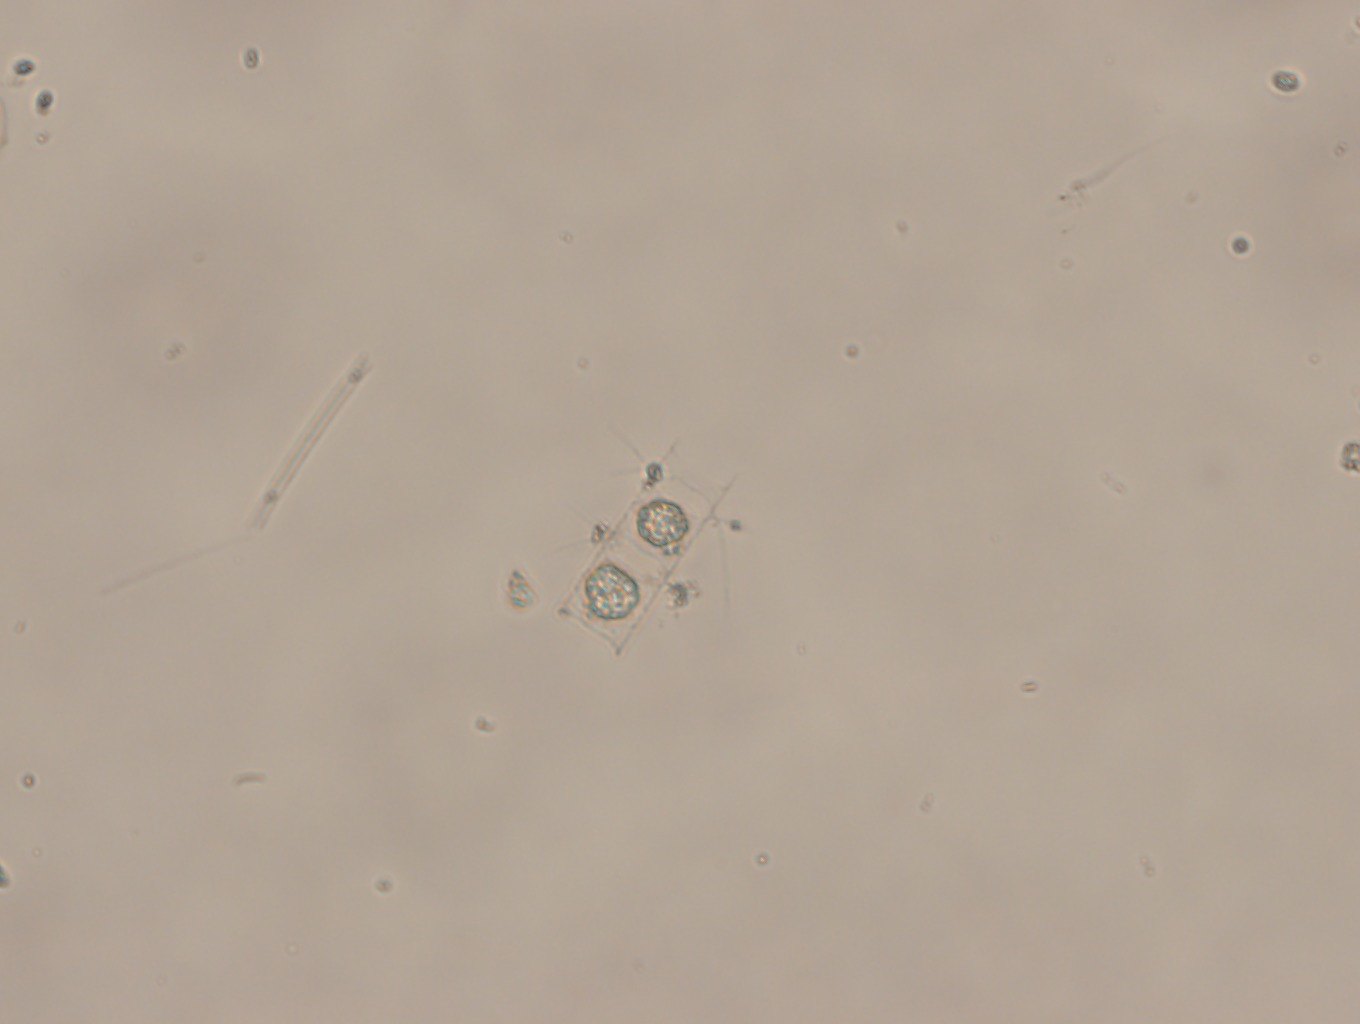chaetoceros: (544, 424, 756, 657)
